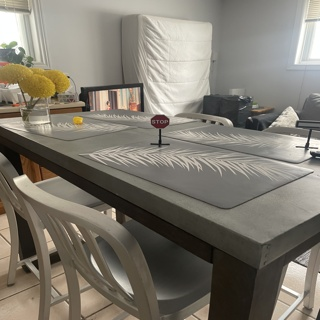sign_stop: (150, 114, 168, 130)
